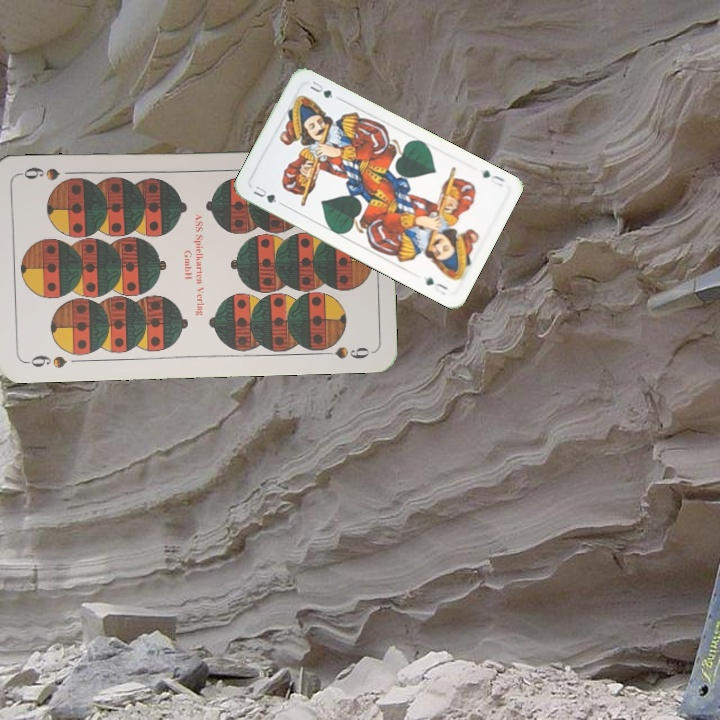GU: (249, 182, 279, 206), (478, 166, 507, 189)
S9: (22, 351, 69, 371)
